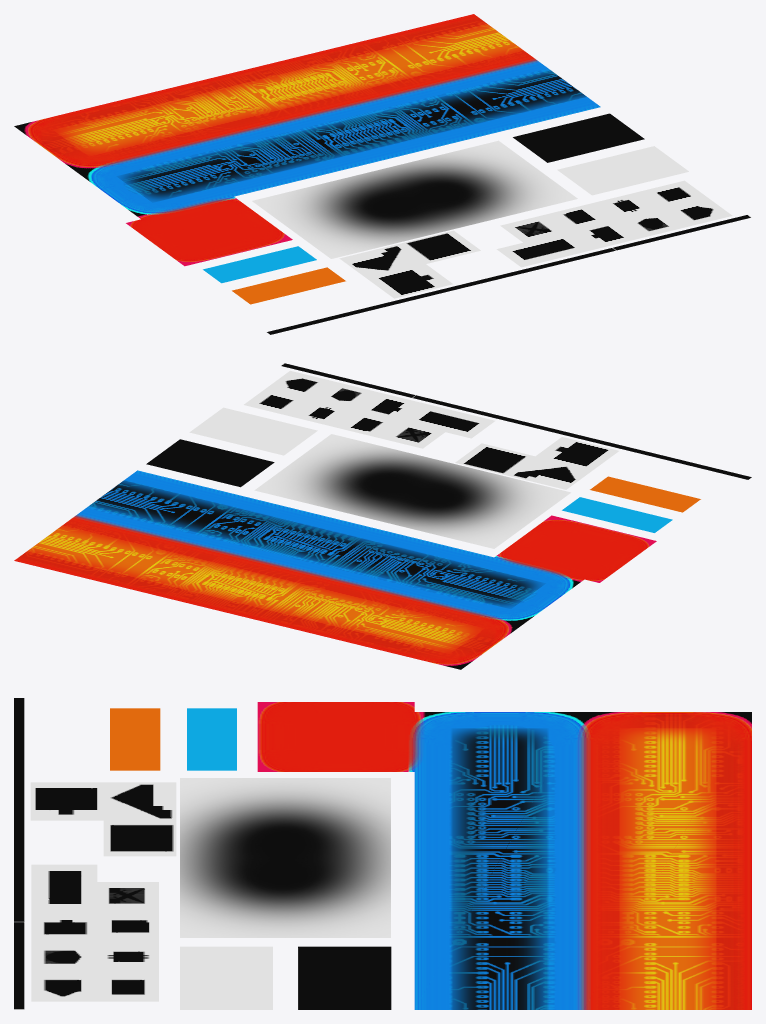
The model's file is GUI_prototype01.FBX.
The picture shows the model from 3 angles, top to bottom: view 1: azimuth 30°, elevation 25°; view 2: azimuth 150°, elevation 25°; view 3: azimuth 270°, elevation 25°; orthographic projection. The views are drawn at different scales.
Parts seen in each view (by area): view 1: GUI_B_blue, GUI_B_orange, GUI_vignette_alpha, GUI_B_glow, GUI_B_black, GUI_B_white, GUI_vignette, GUI_B_filterblue, GUI_B_filterorange, GUI_S_podium, GUI_S_tick, GUI_S_arrow (+8 smaller); view 2: GUI_B_blue, GUI_B_orange, GUI_vignette_alpha, GUI_B_glow, GUI_B_black, GUI_B_white, GUI_vignette, GUI_B_filterorange, GUI_B_filterblue, GUI_S_podium, GUI_S_tick, GUI_S_arrow (+8 smaller); view 3: GUI_B_blue, GUI_B_orange, GUI_vignette_alpha, GUI_B_glow, GUI_B_black, GUI_B_white, GUI_vignette, GUI_S_podium, GUI_B_filterorange, GUI_B_filterblue, GUI_S_arrow, GUI_S_tick (+8 smaller).
Part boxes in pixels (x1,y1,x2,y2): GUI_B_blue: (78, 60, 600, 219); GUI_B_orange: (14, 14, 536, 172); GUI_vignette_alpha: (252, 140, 577, 258); GUI_B_glow: (126, 196, 292, 266); GUI_B_black: (513, 113, 644, 162); GUI_B_white: (557, 146, 688, 195); GUI_vignette: (267, 214, 751, 334); GUI_B_filterblue: (203, 246, 316, 283); GUI_B_filterorange: (232, 267, 345, 304); GUI_S_podium: (496, 231, 593, 267); GUI_S_tick: (339, 244, 425, 278); GUI_S_arrow: (367, 264, 452, 298); GUI_B_blue: (76, 470, 584, 624); GUI_B_orange: (14, 515, 522, 669); GUI_vignette_alpha: (254, 434, 570, 548); GUI_B_glow: (494, 515, 656, 582); GUI_B_black: (146, 439, 274, 487); GUI_B_white: (189, 407, 317, 455); GUI_vignette: (280, 363, 751, 479); GUI_B_filterorange: (590, 476, 700, 512); GUI_B_filterblue: (562, 497, 672, 532); GUI_S_podium: (401, 403, 495, 438); GUI_S_tick: (509, 456, 592, 489); GUI_S_arrow: (536, 437, 618, 470); GUI_B_blue: (414, 712, 583, 1009); GUI_B_orange: (583, 712, 751, 1009); GUI_vignette_alpha: (180, 778, 390, 937); GUI_B_glow: (257, 702, 414, 771); GUI_B_black: (298, 946, 391, 1009); GUI_B_white: (180, 946, 272, 1009); GUI_vignette: (14, 698, 24, 1009); GUI_S_podium: (31, 864, 97, 911); GUI_B_filterorange: (110, 708, 160, 770); GUI_B_filterblue: (187, 708, 236, 770); GUI_S_arrow: (30, 782, 103, 820); GUI_S_tick: (103, 782, 176, 820).
Bounding box in the file's own units: 10 × 8.2e-16 × 10.
Materials: 20 (20 with a texture image).
